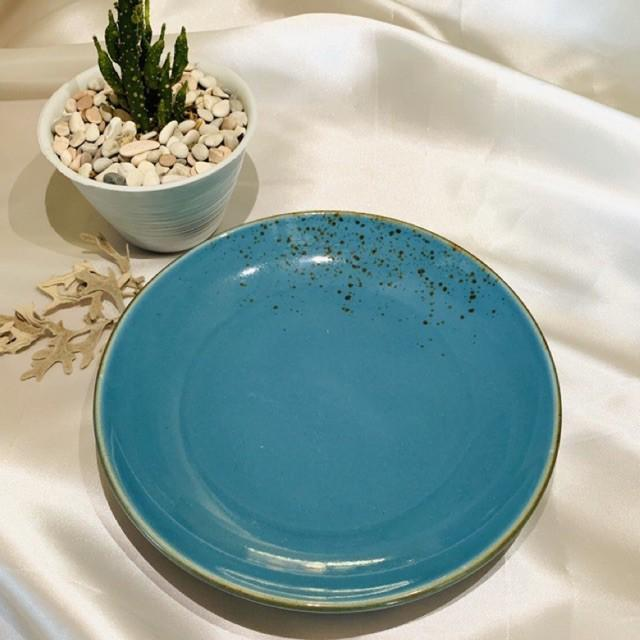Plate: (91, 202, 574, 620)
